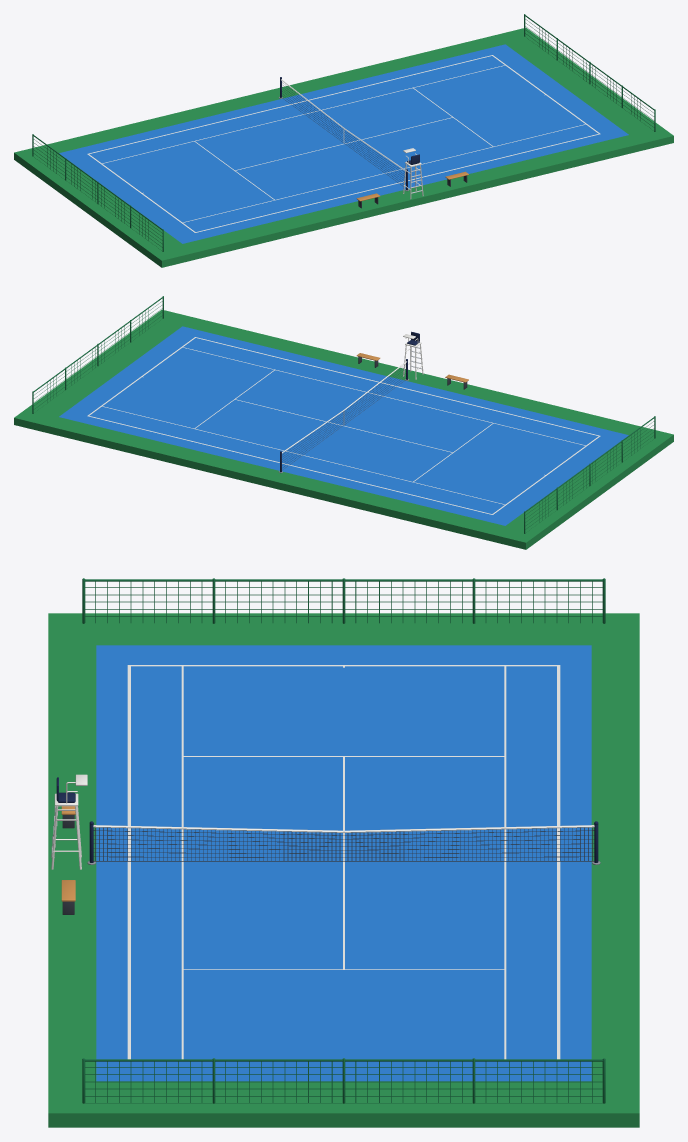
File: quadra_tenis_rapida.glb
The picture shows the model from 3 angles, top to bottom: view 1: azimuth 30°, elevation 25°; view 2: azimuth 150°, elevation 25°; view 3: azimuth 270°, elevation 25°; orthographic projection. The views are drawn at different scales.
Visible parts, largest first — view 1: quadra_tenis_rapida; view 2: quadra_tenis_rapida; view 3: quadra_tenis_rapida.
Part boxes in pixels (left/top/right/bottom): quadra_tenis_rapida: left=14, top=14, right=673, bottom=267; quadra_tenis_rapida: left=14, top=296, right=673, bottom=549; quadra_tenis_rapida: left=48, top=578, right=639, bottom=1127.
Size of the model in its own units: 30 by 2.75 by 15.
Materials: 1 (1 with a texture image).
